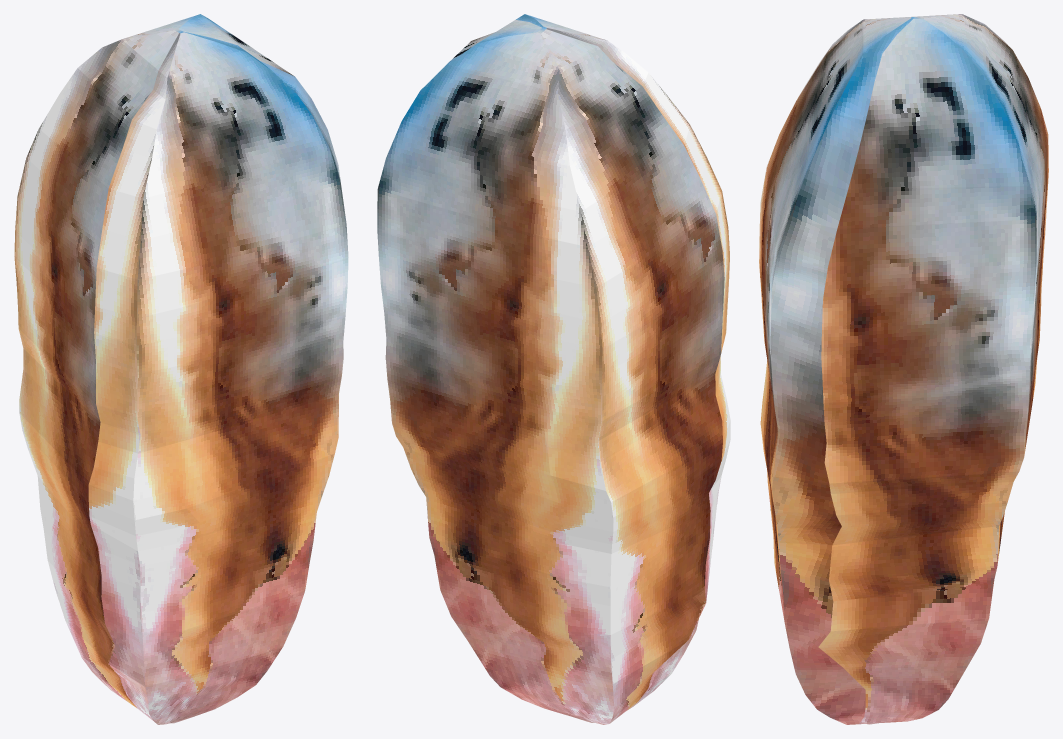
The model's file is metamorphosis_v18_t.glb.
3 views of the same model, side by side, from view 1: azimuth 30°, elevation 25°; view 2: azimuth 150°, elevation 25°; view 3: azimuth 270°, elevation 25° (orthographic). The views are drawn at different scales.
Visible parts, largest first — view 1: Cube; view 2: Cube; view 3: Cube.
Part boxes in pixels (box(x1,y1,x2,y2)): Cube: box(14, 14, 348, 724); Cube: box(377, 14, 730, 724); Cube: box(759, 14, 1048, 724).
Size of the model in its own units: 1.26 by 3.19 by 1.16.
Materials: 1 (1 with a texture image).
